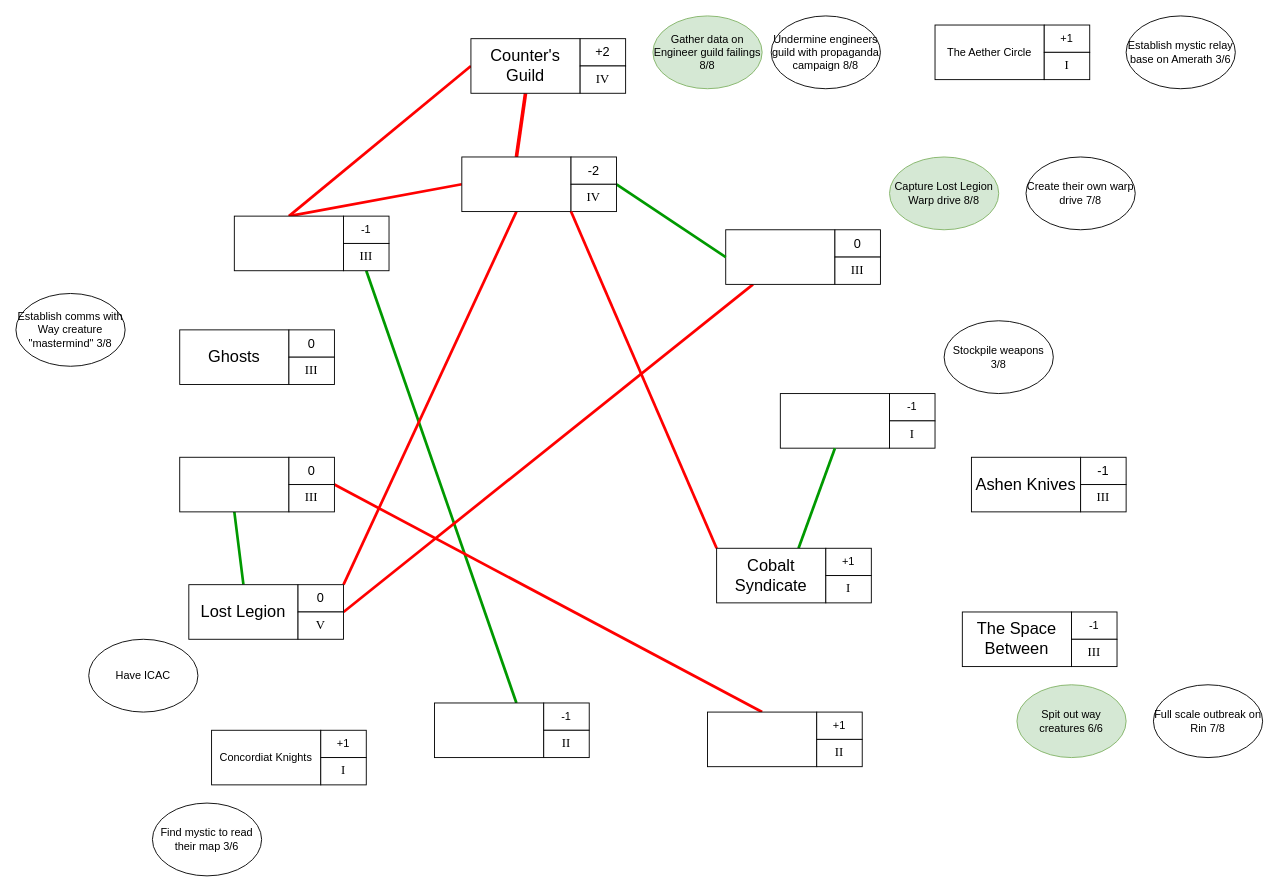
This 1279x892 diagram has some shape labels left out. Each missing label, with the centre of its shape:
Borniko Syndicate: the point at 288,243
Guild of Engineers: the point at 516,184
House Malklaith Loyalists: the point at 780,256
Independance of Holt: the point at 834,420
Mendicants: the point at 234,484
Prophets of the Setting Stars: the point at 762,739
Yamagata: the point at 489,730
